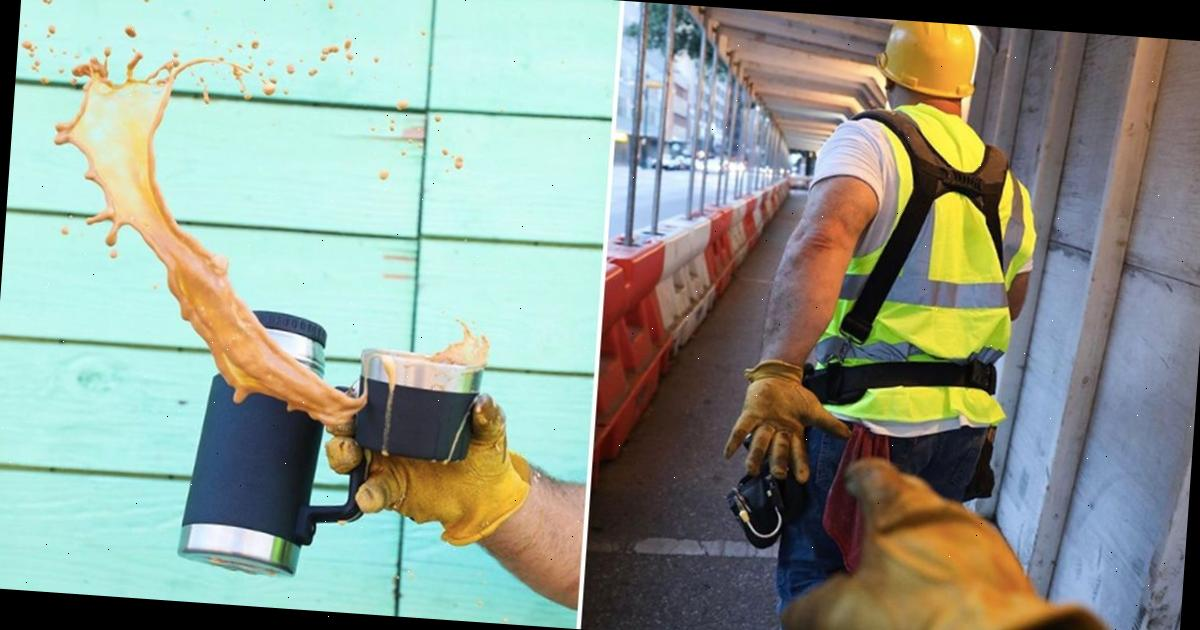helmet: (874, 19, 983, 100)
wear: (817, 107, 1027, 439)
